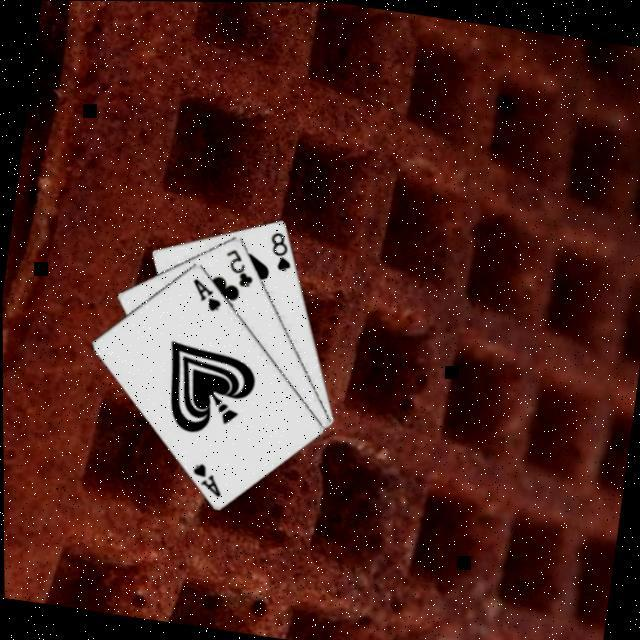5C: (220, 245, 261, 291)
8S: (265, 228, 300, 276)
AS: (187, 459, 228, 501), (187, 275, 228, 316)
